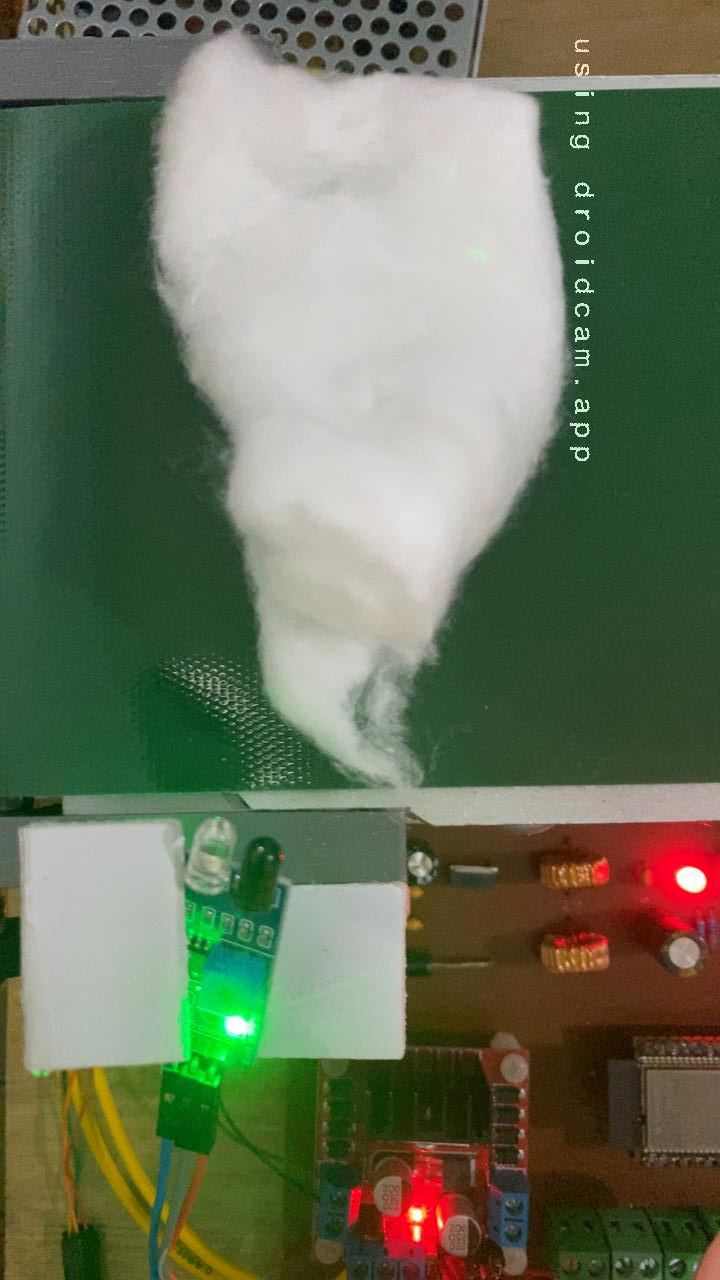cotton: (143, 99, 720, 817)
